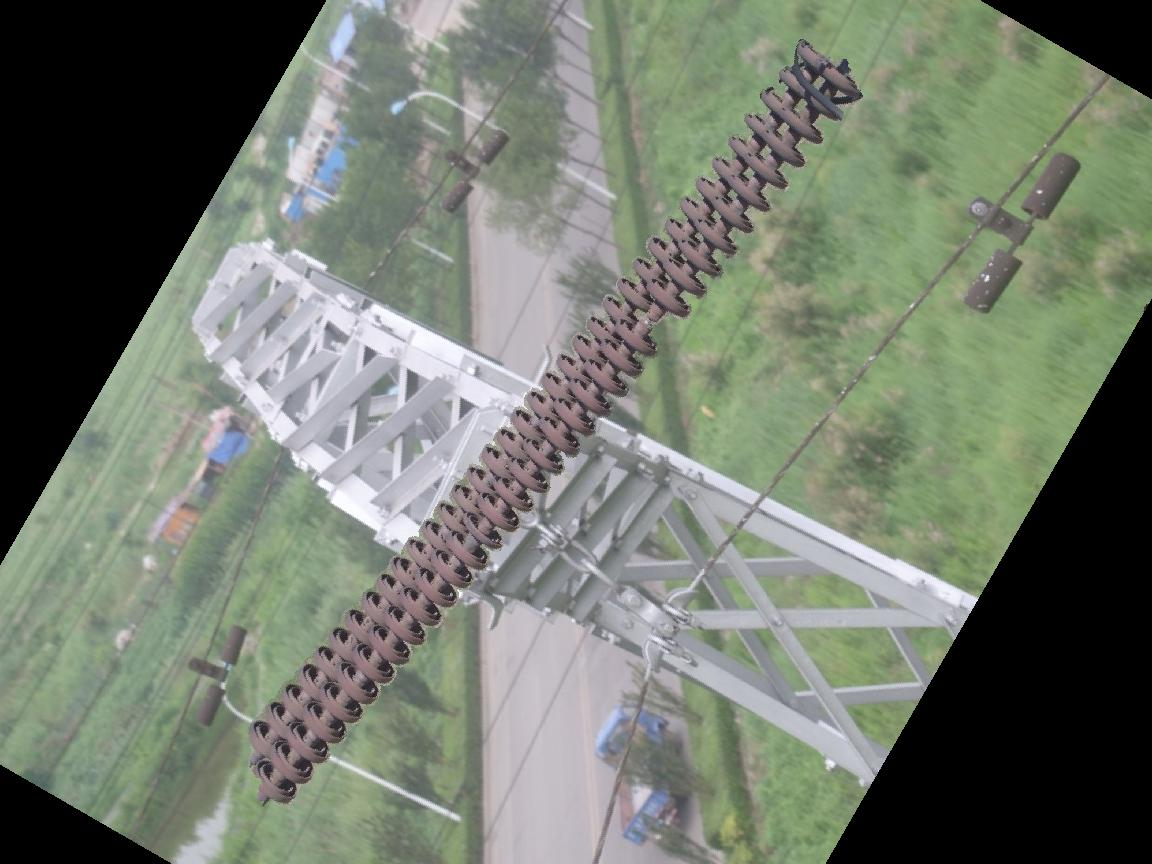insulator: (236, 36, 868, 809)
insulator_stringdrop: (611, 280, 693, 357)
